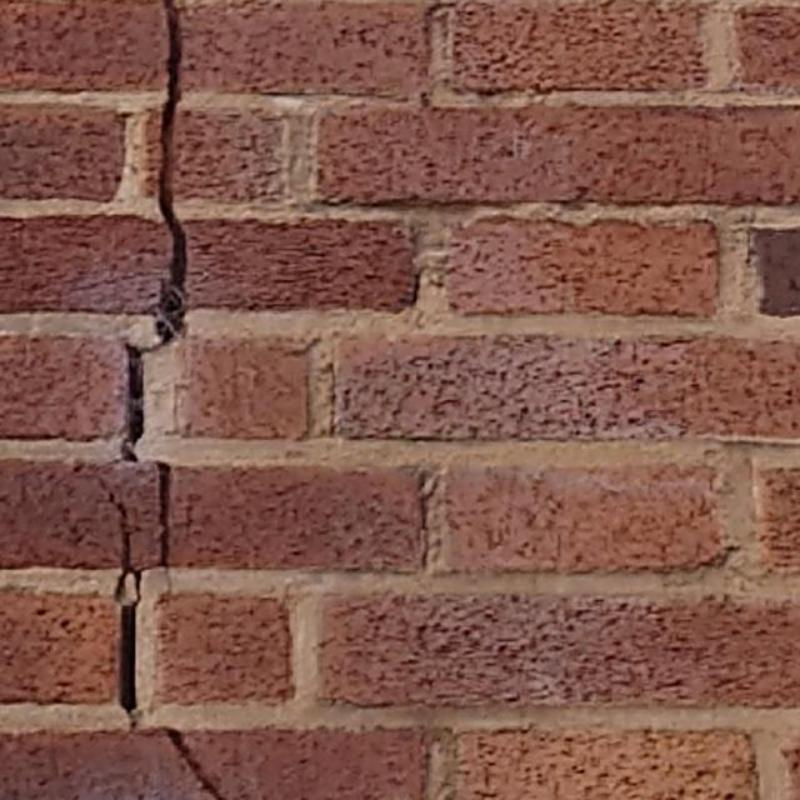crack: (140, 0, 186, 353), (109, 494, 141, 712), (167, 730, 225, 800), (120, 344, 144, 460), (157, 462, 172, 565)
